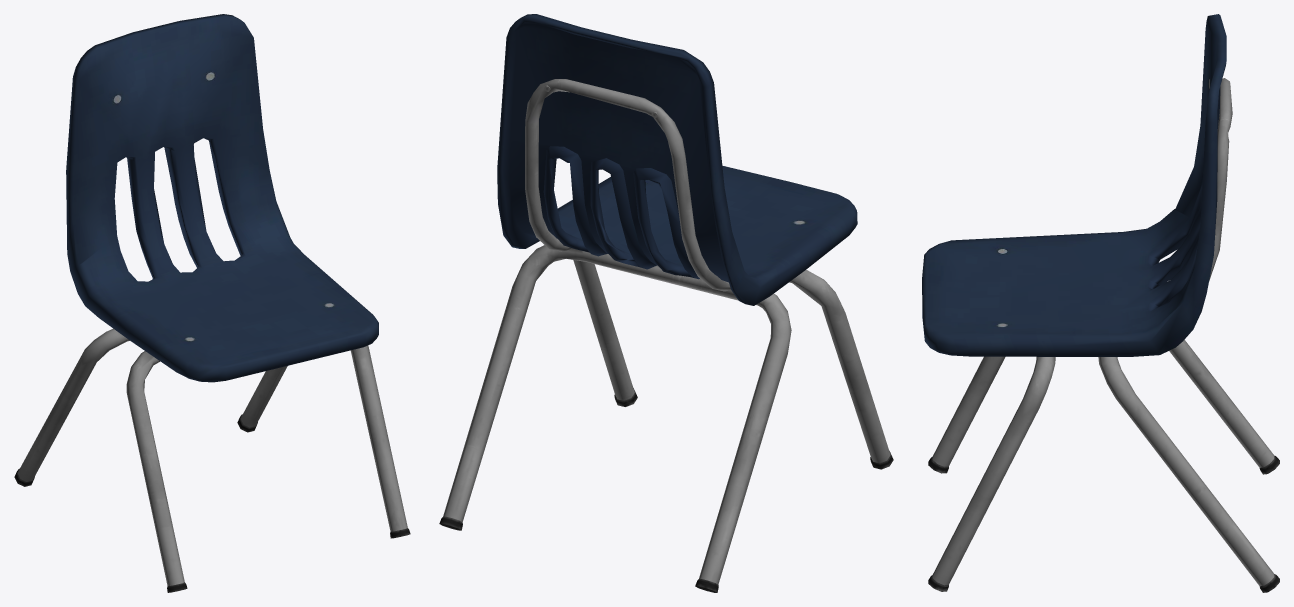
Rendered from SchoolChair_01.glb.
The picture shows the model from 3 angles, left to right: view 1: azimuth 30°, elevation 25°; view 2: azimuth 150°, elevation 25°; view 3: azimuth 270°, elevation 25°; orthographic projection. The views are drawn at different scales.
Parts seen in each view (by area): view 1: SchoolChair_01; view 2: SchoolChair_01; view 3: SchoolChair_01.
Boxes of the visible parts, x1,y1,x2,y2 form: SchoolChair_01: (14, 14, 410, 592); SchoolChair_01: (439, 14, 893, 592); SchoolChair_01: (922, 14, 1279, 592).
Bounding box in the file's own units: 0.5658 × 1 × 0.6732.
1 material, 1 textured.
